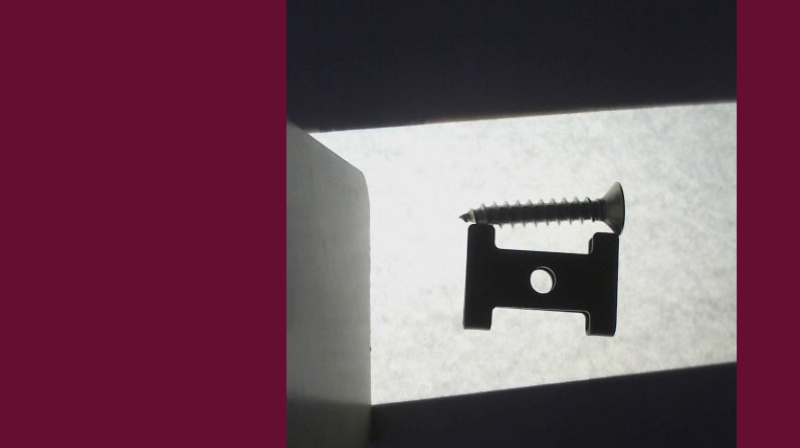O002: (461, 225, 619, 337)
S001: (457, 180, 626, 237)
